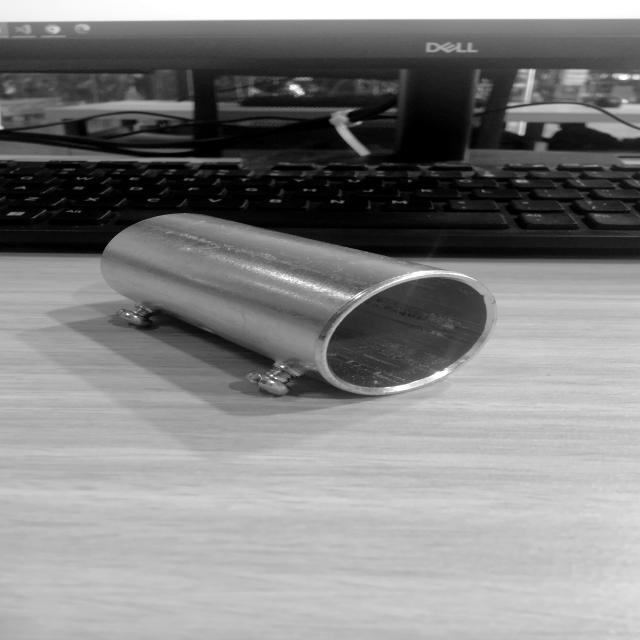Co_Lon: (81, 195, 505, 439)
